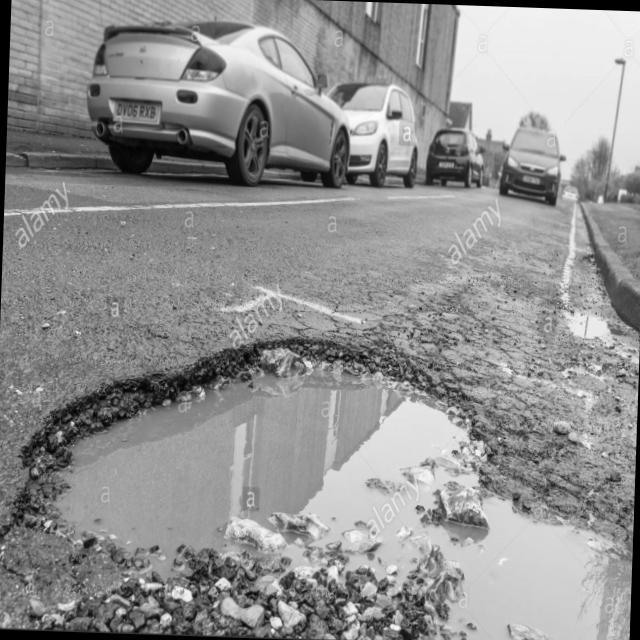Pothole: (0, 317, 625, 640)
